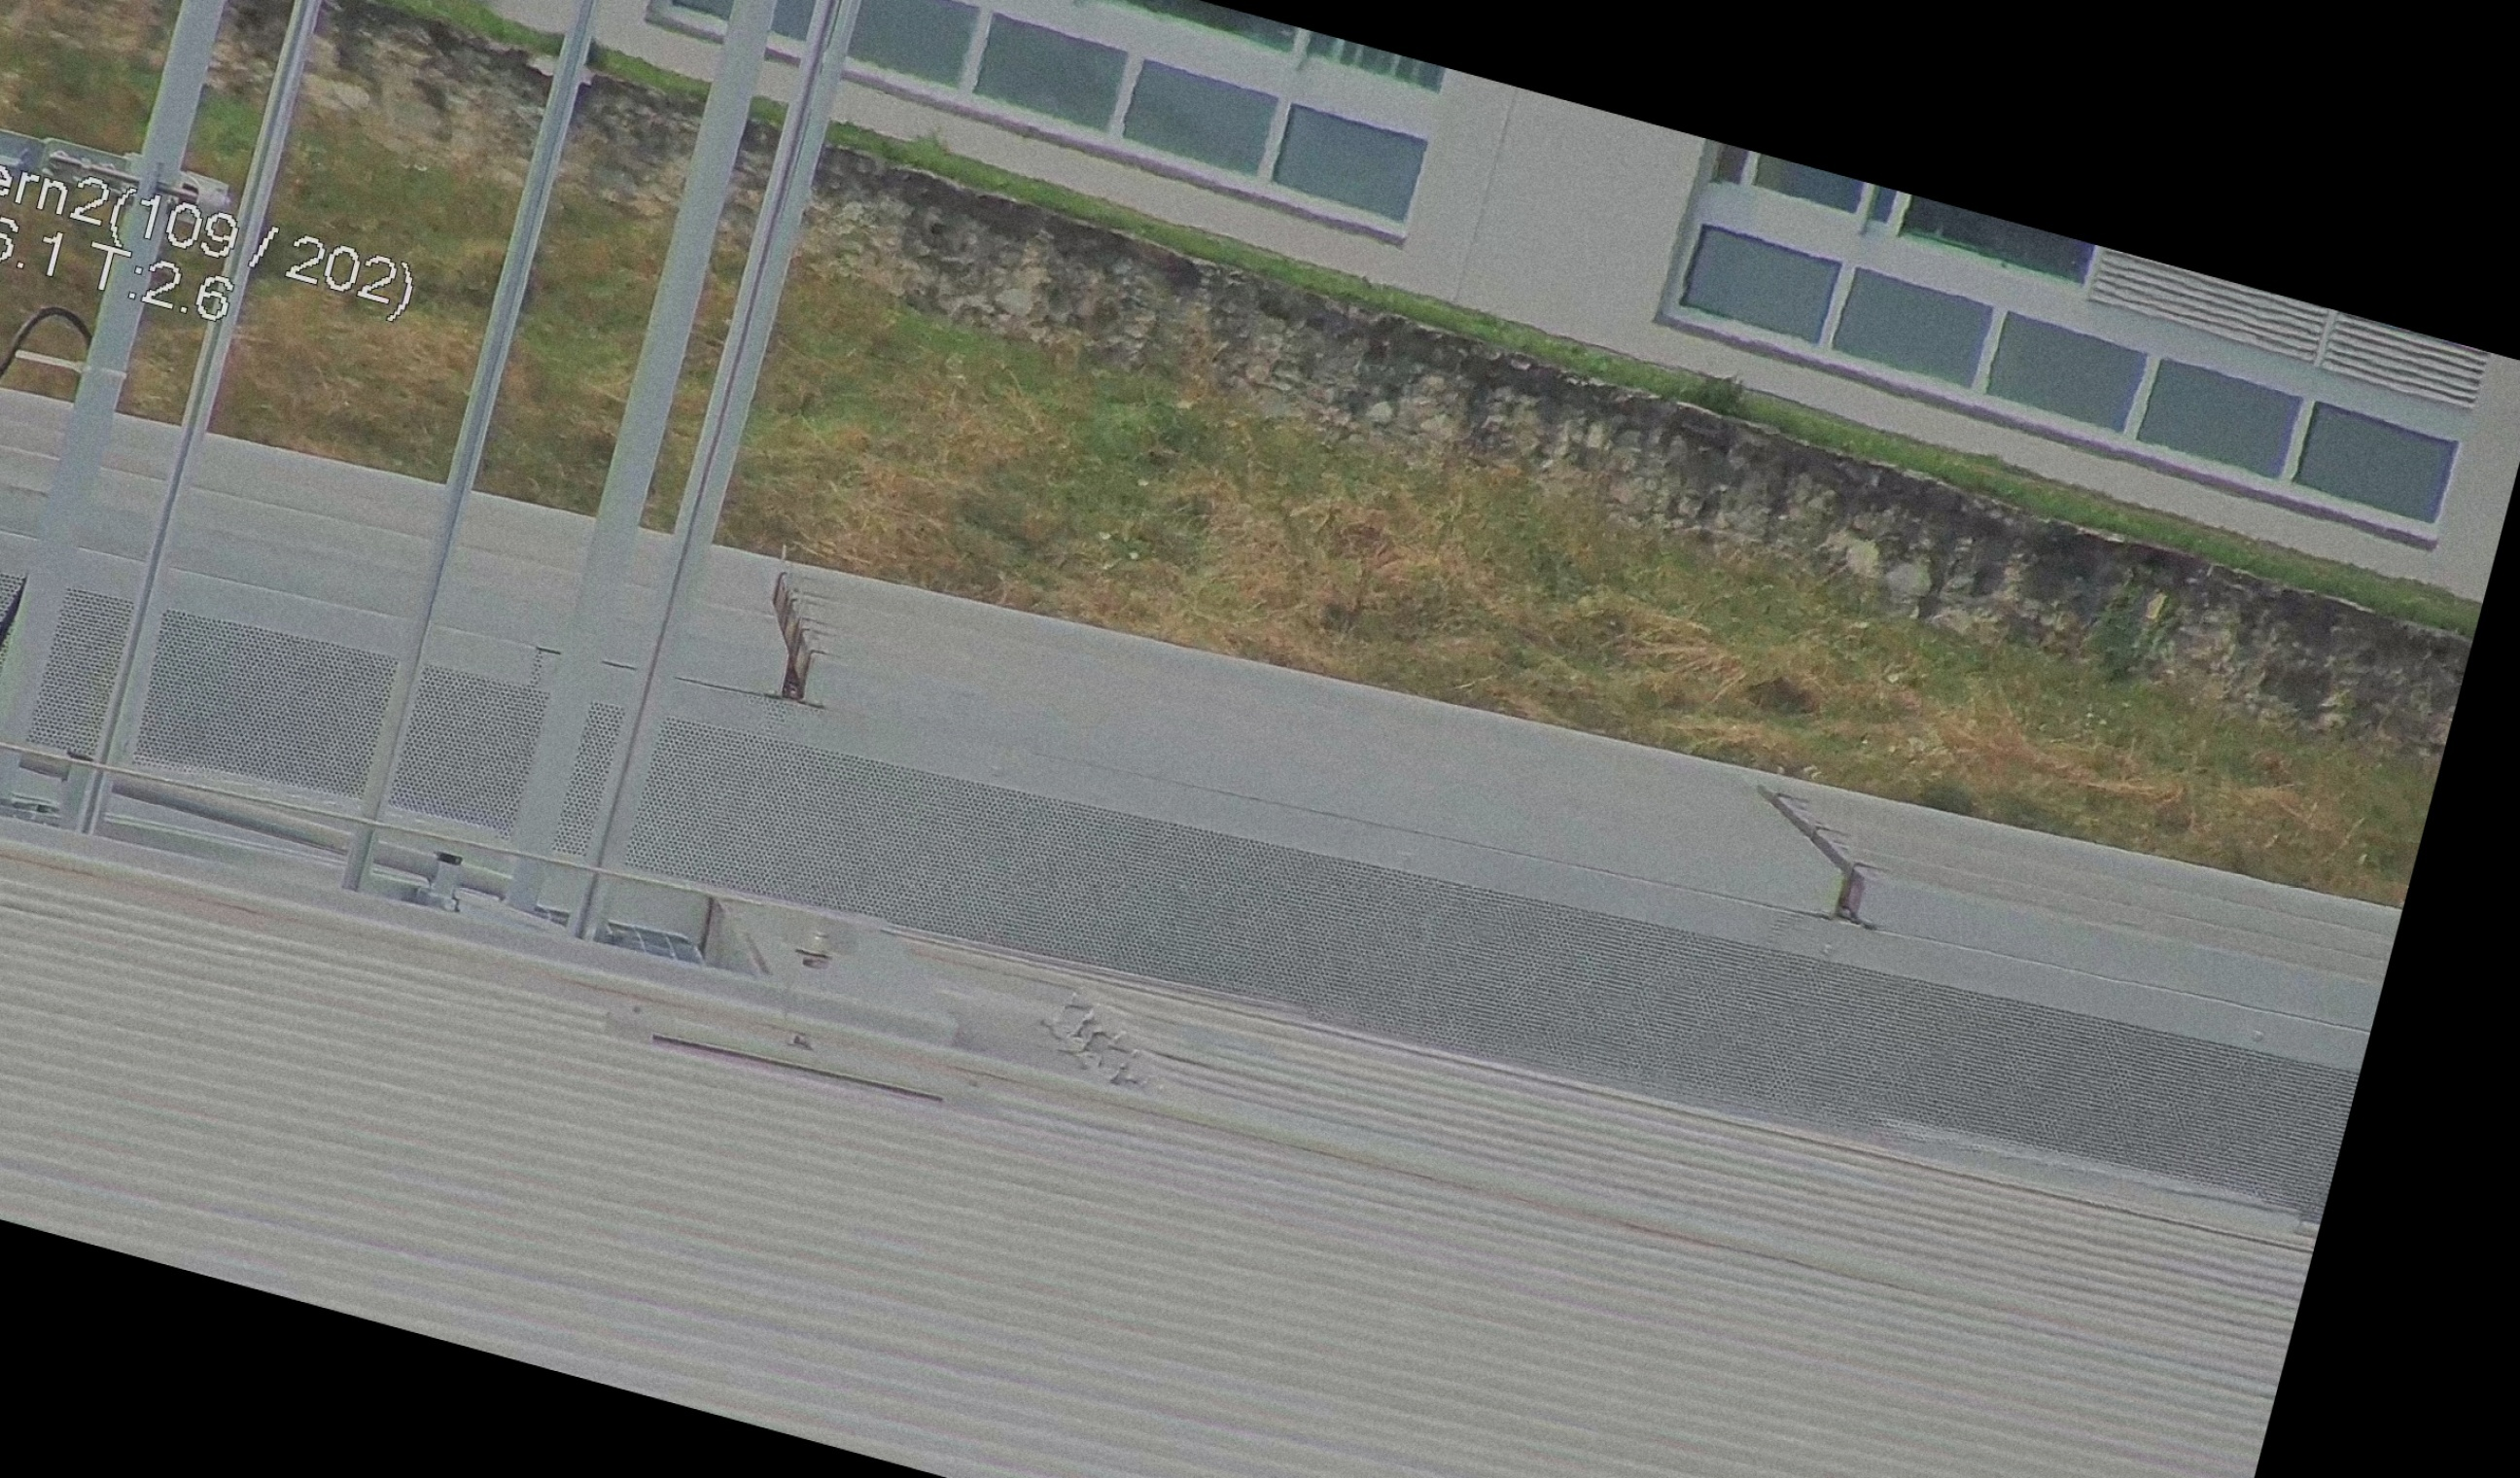Other: (725, 540, 872, 723)
